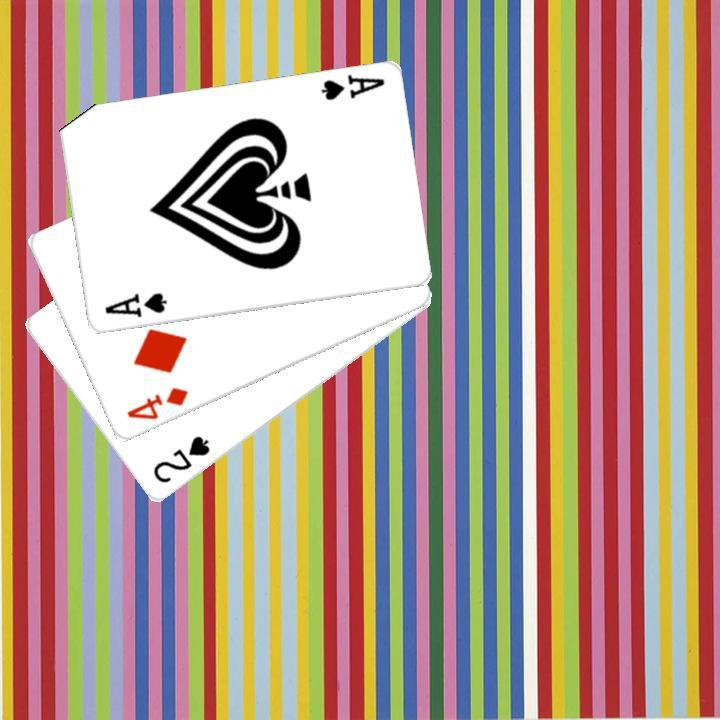2: (148, 431, 212, 486)
4: (122, 383, 190, 423)
A: (316, 71, 387, 103), (99, 289, 168, 320)
